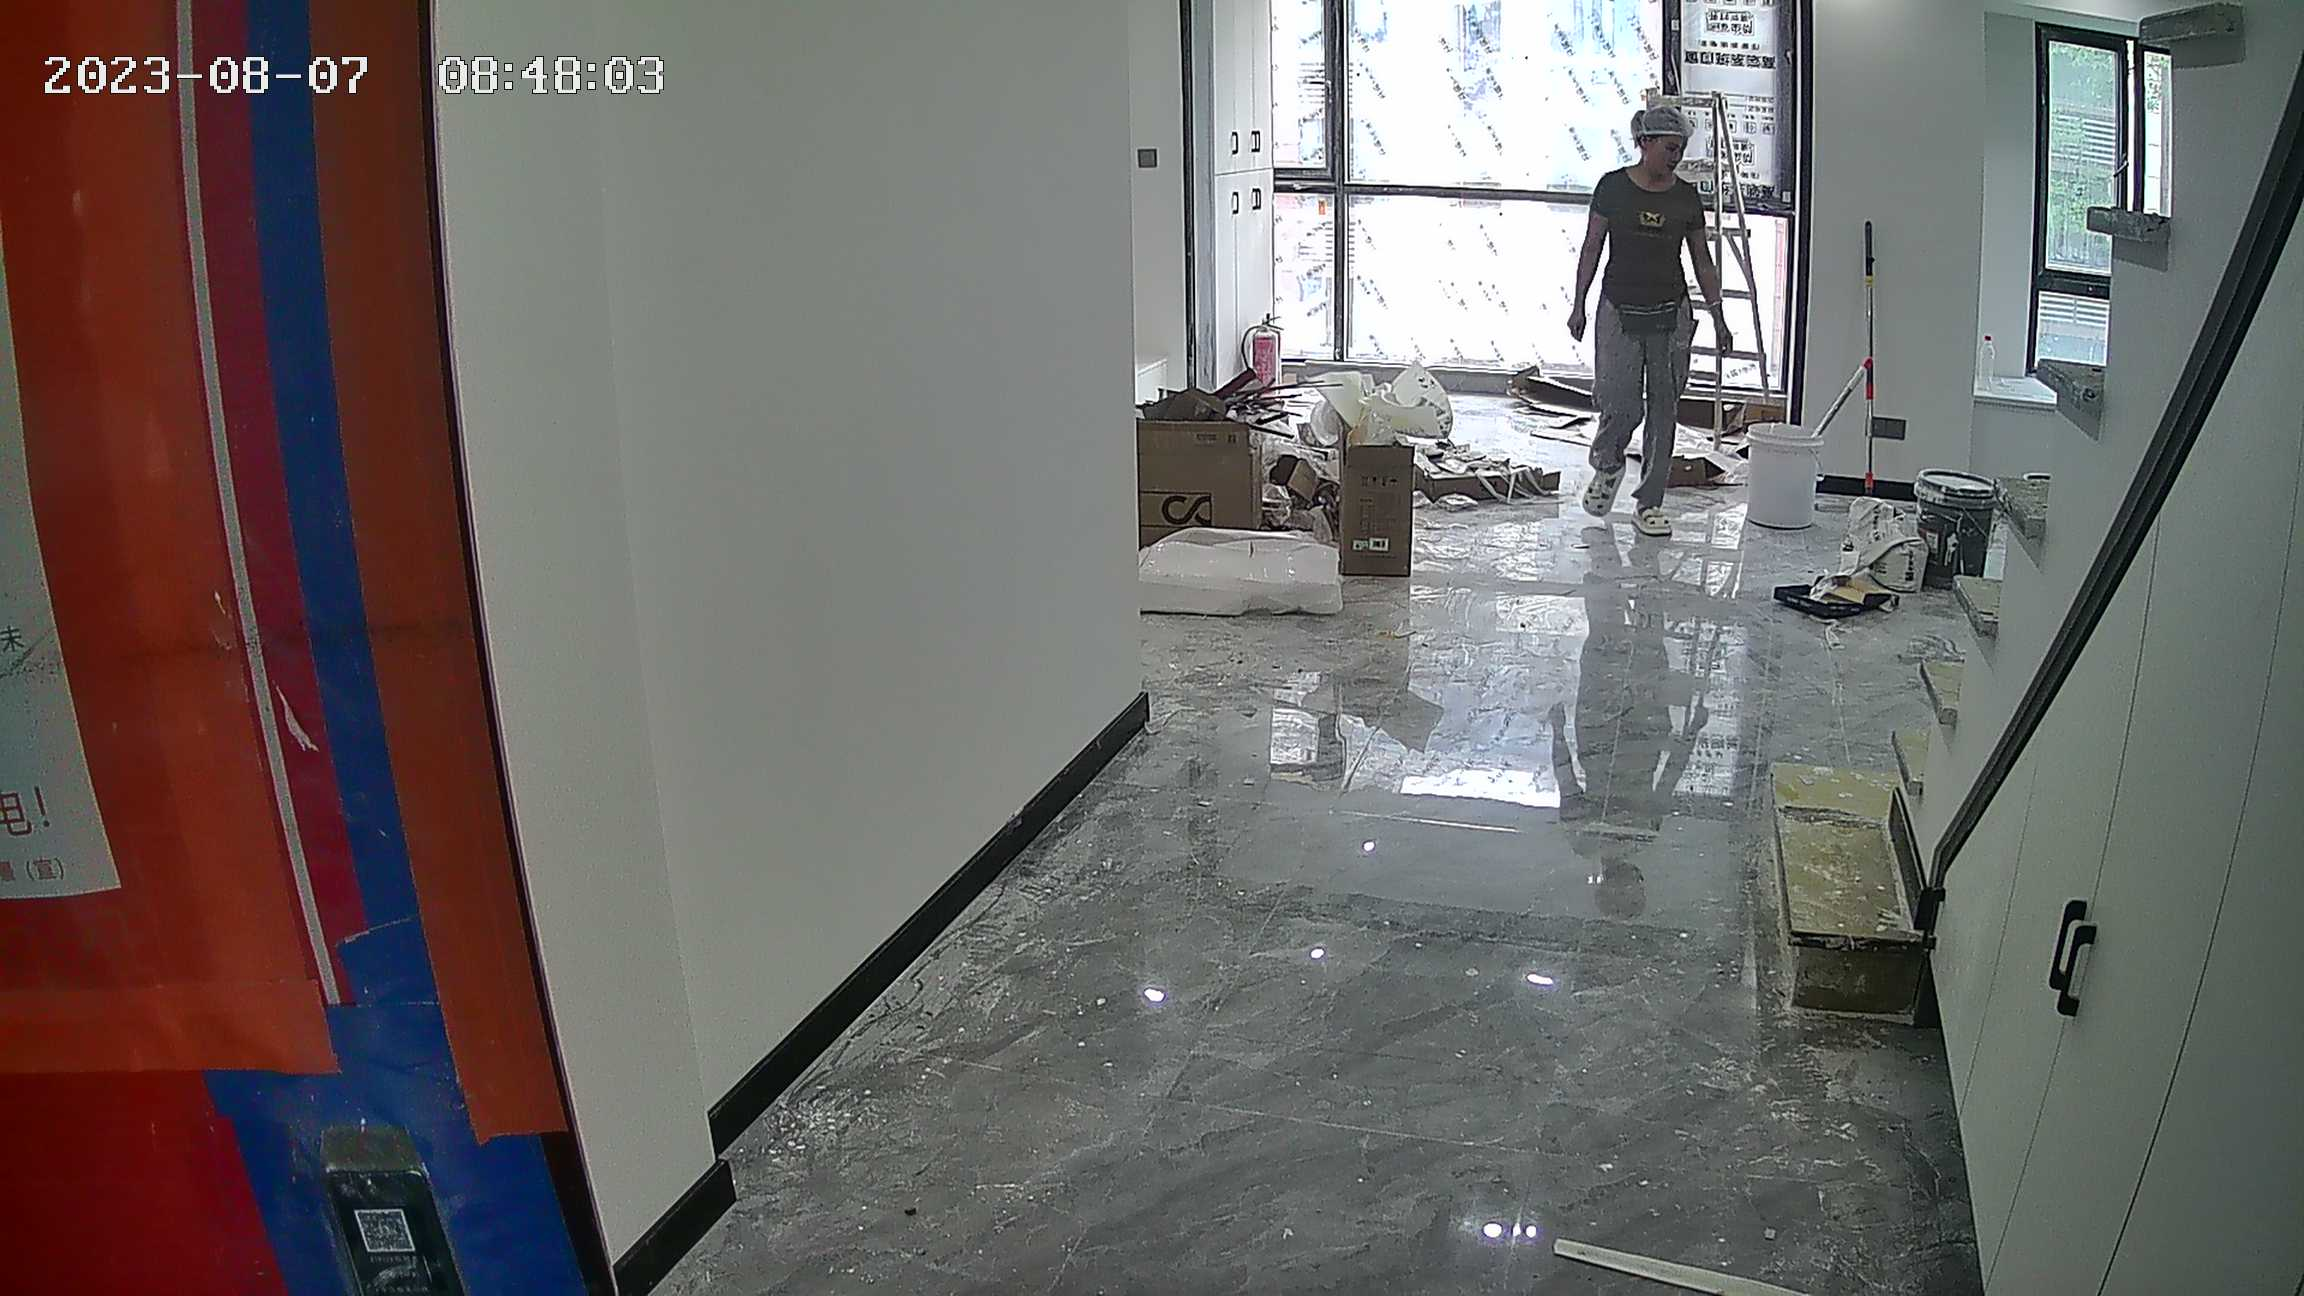people: (1570, 94, 1708, 548)
window: (1269, 12, 1813, 444)
